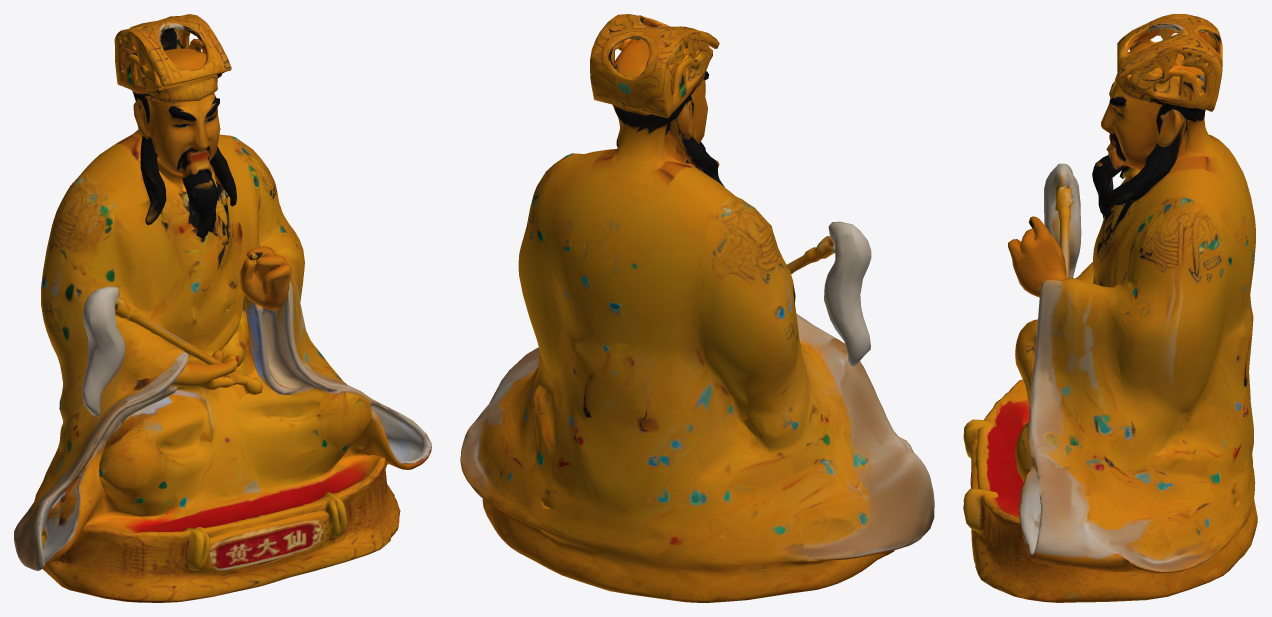
The model's file is LC-黄大仙.fbx.
3 renders of one model, left to right at view 1: azimuth 30°, elevation 25°; view 2: azimuth 150°, elevation 25°; view 3: azimuth 270°, elevation 25°, orthographic. The views are drawn at different scales.
Parts seen in each view (by area): view 1: LC-黄大仙; view 2: LC-黄大仙; view 3: LC-黄大仙.
Part boxes in pixels (x1,y1,x2,y2): LC-黄大仙: (14,14,431,602); LC-黄大仙: (460,14,934,602); LC-黄大仙: (963,14,1257,602).
Size of the model in its own units: 0.2734 by 0.1753 by 0.3281.
